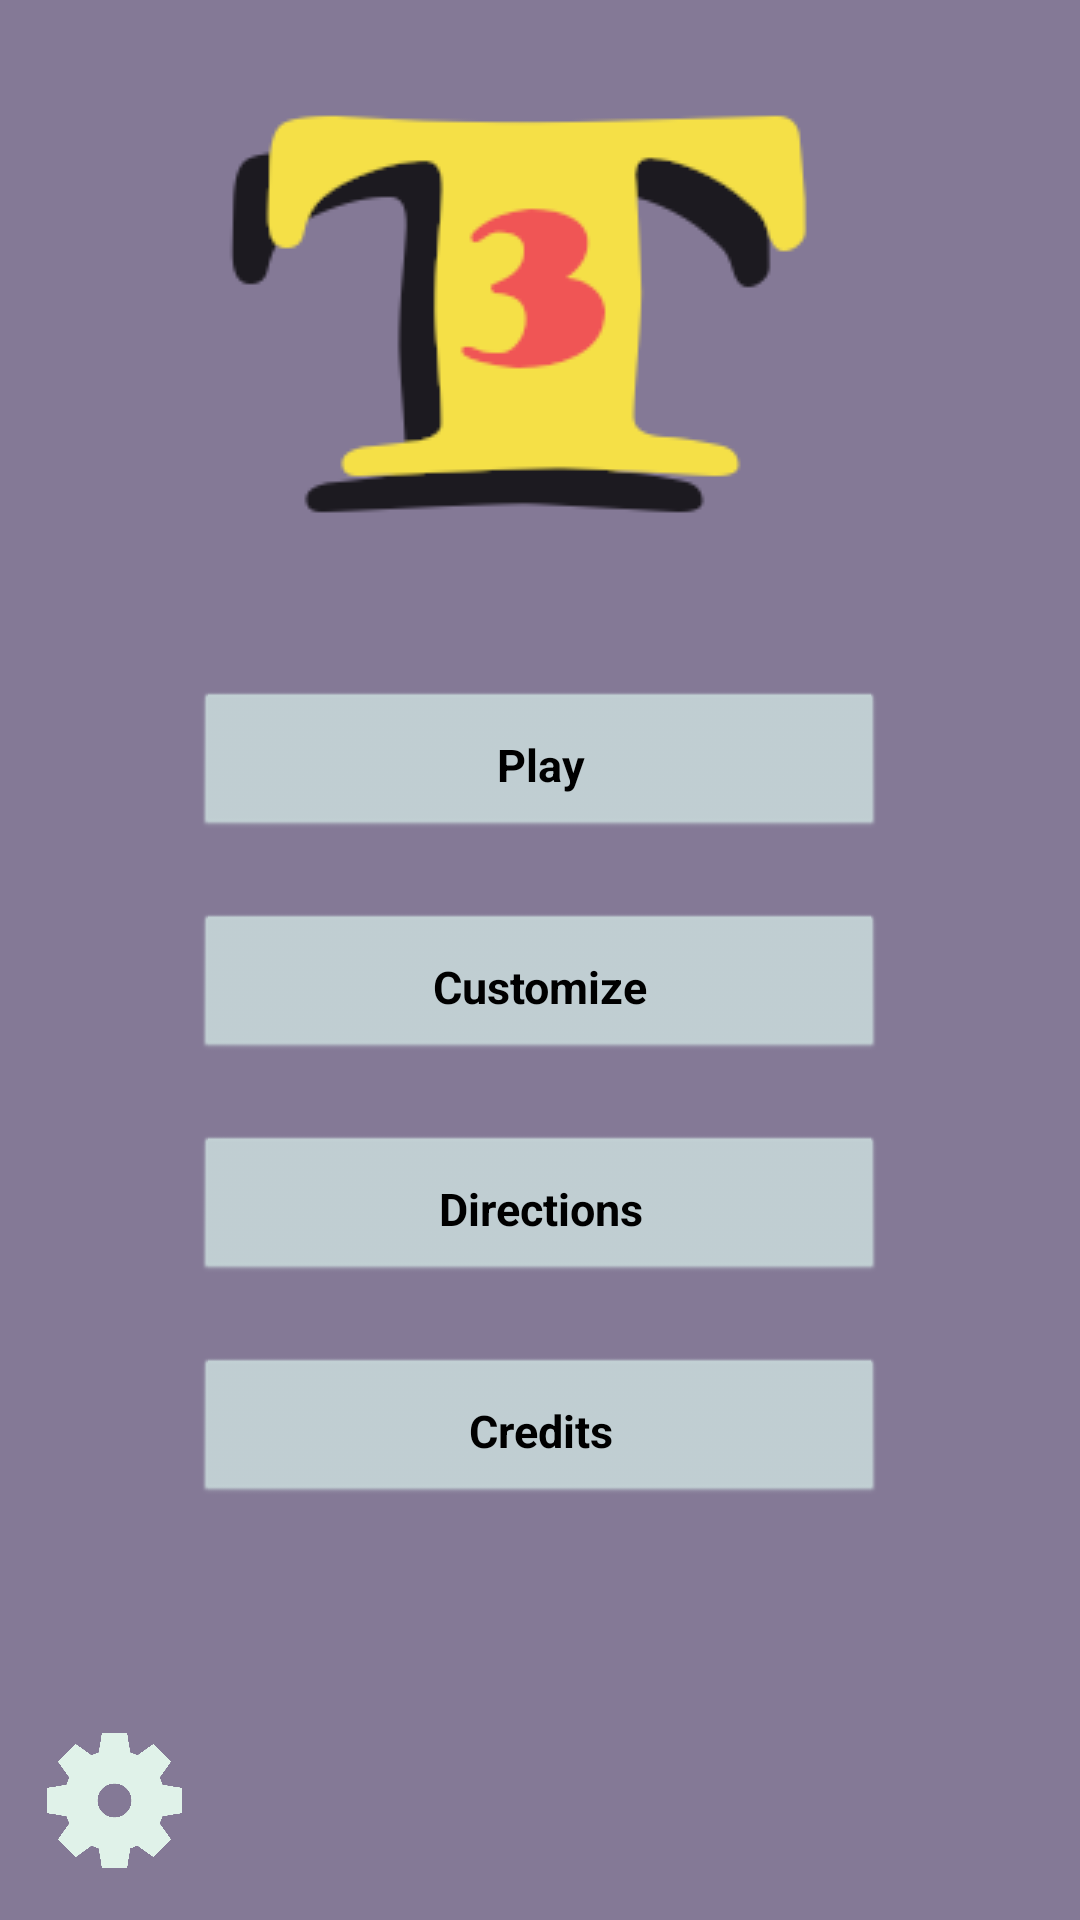

Icon click points for this 1080 × 1920 phone screenshot, format (x=x, y=y):
Simple 2D depiction of a cog or gear: (x=114, y=1800)
